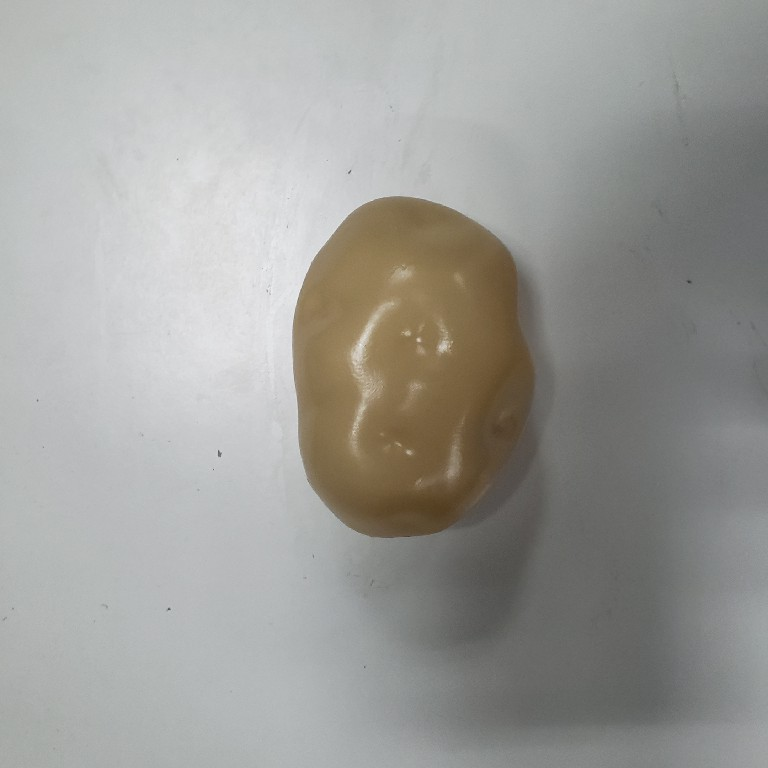fruit_potato: (287, 192, 537, 544)
